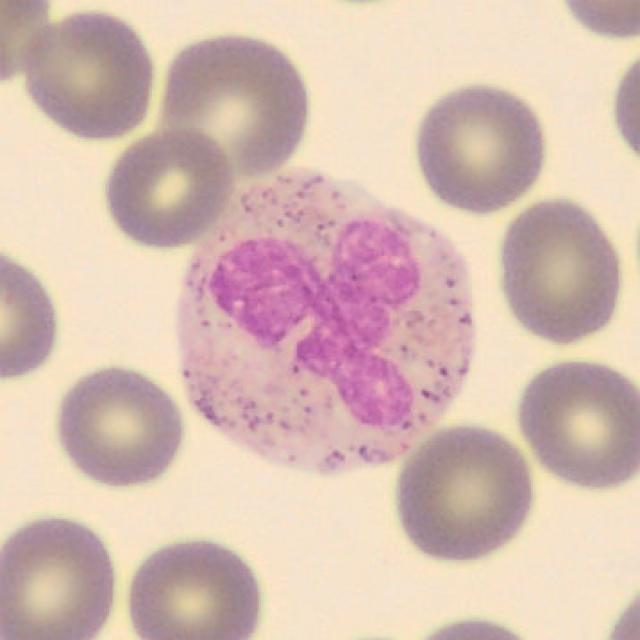Neutrofilo segmentado: (178, 162, 474, 479)
